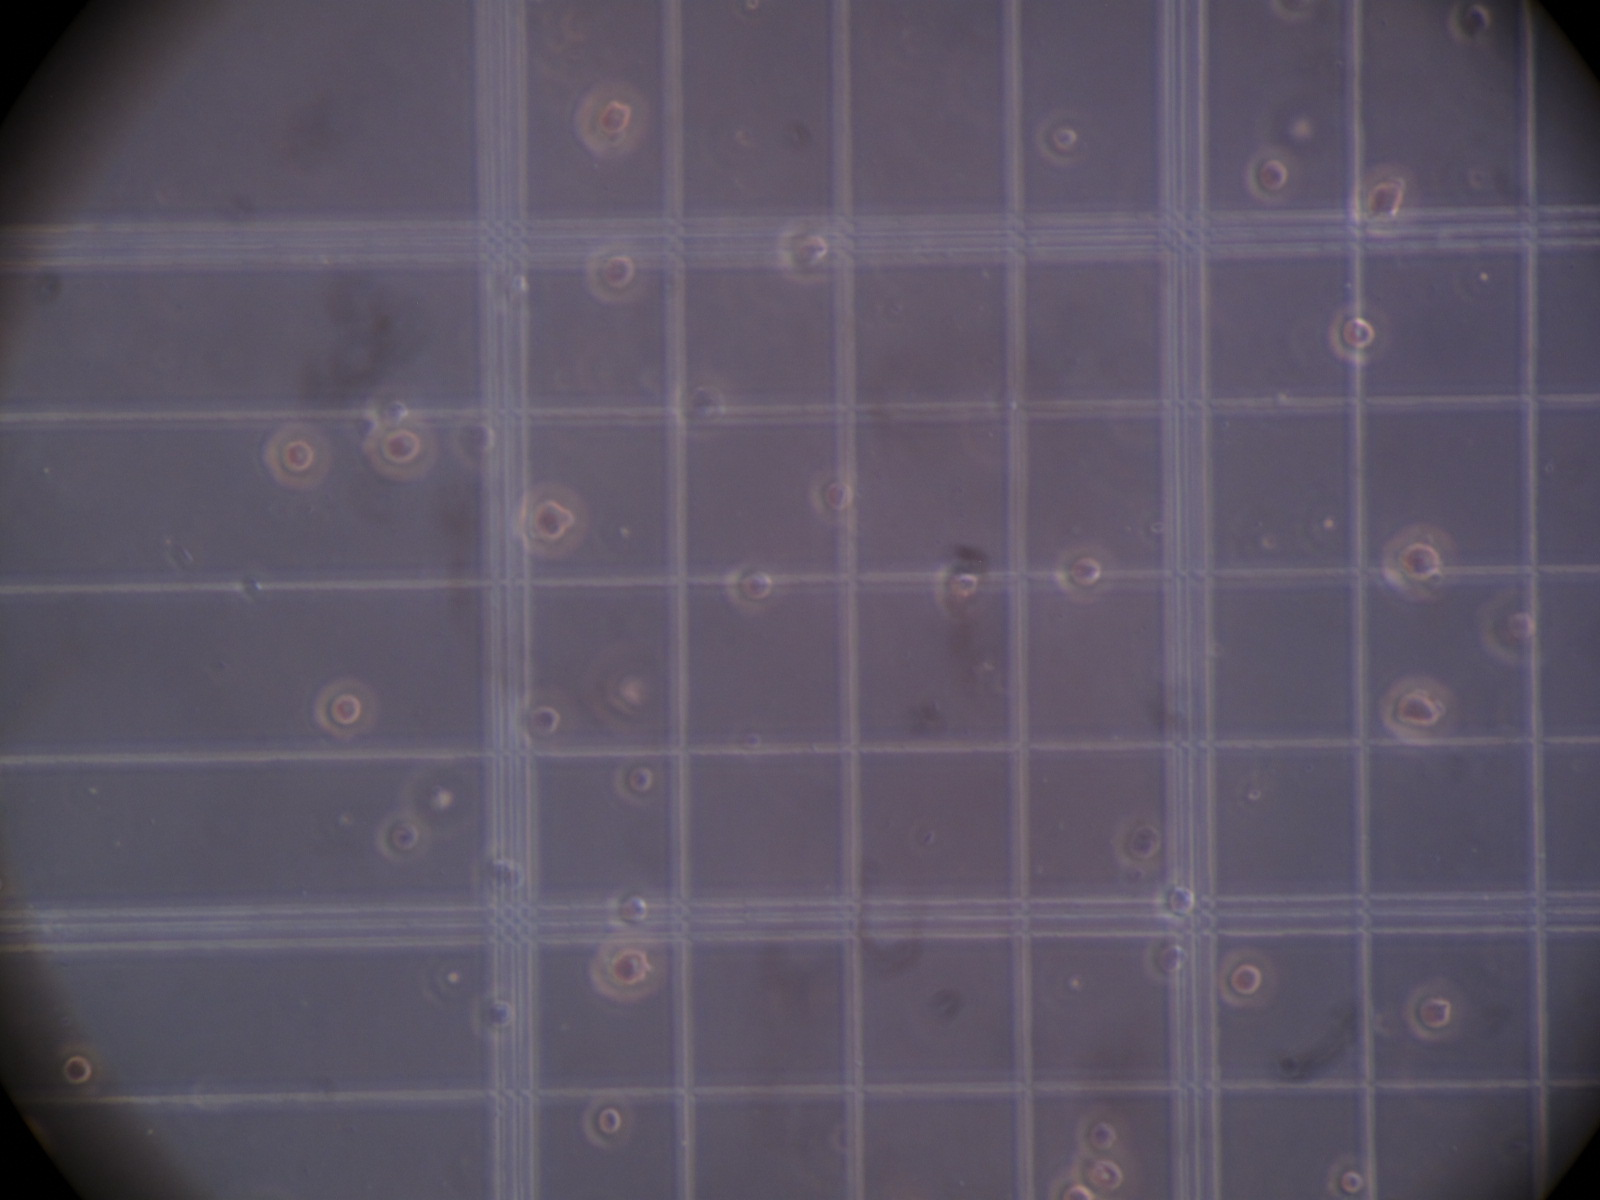hemo: (1382, 521, 1458, 604), (513, 482, 588, 561), (574, 81, 648, 158), (1380, 676, 1458, 747), (587, 934, 666, 1005), (1347, 163, 1417, 239), (1475, 586, 1540, 666), (263, 421, 333, 489), (363, 424, 437, 483), (315, 677, 380, 740), (1327, 303, 1390, 367), (935, 555, 994, 623), (586, 243, 648, 305), (1033, 107, 1092, 169), (1403, 979, 1461, 1042), (1054, 546, 1115, 605), (1218, 948, 1276, 1010), (513, 689, 576, 745), (469, 988, 528, 1045), (776, 224, 830, 285), (1246, 146, 1299, 205), (581, 1092, 634, 1150), (809, 469, 860, 527), (724, 563, 782, 615), (1112, 813, 1163, 872), (374, 811, 430, 861), (55, 1044, 105, 1100), (1073, 1152, 1134, 1197), (610, 754, 661, 805), (1073, 1105, 1128, 1155), (605, 884, 656, 933), (1141, 934, 1191, 984), (1327, 1152, 1377, 1200), (1153, 876, 1196, 926), (1444, 1, 1492, 45), (1049, 1166, 1099, 1200)
